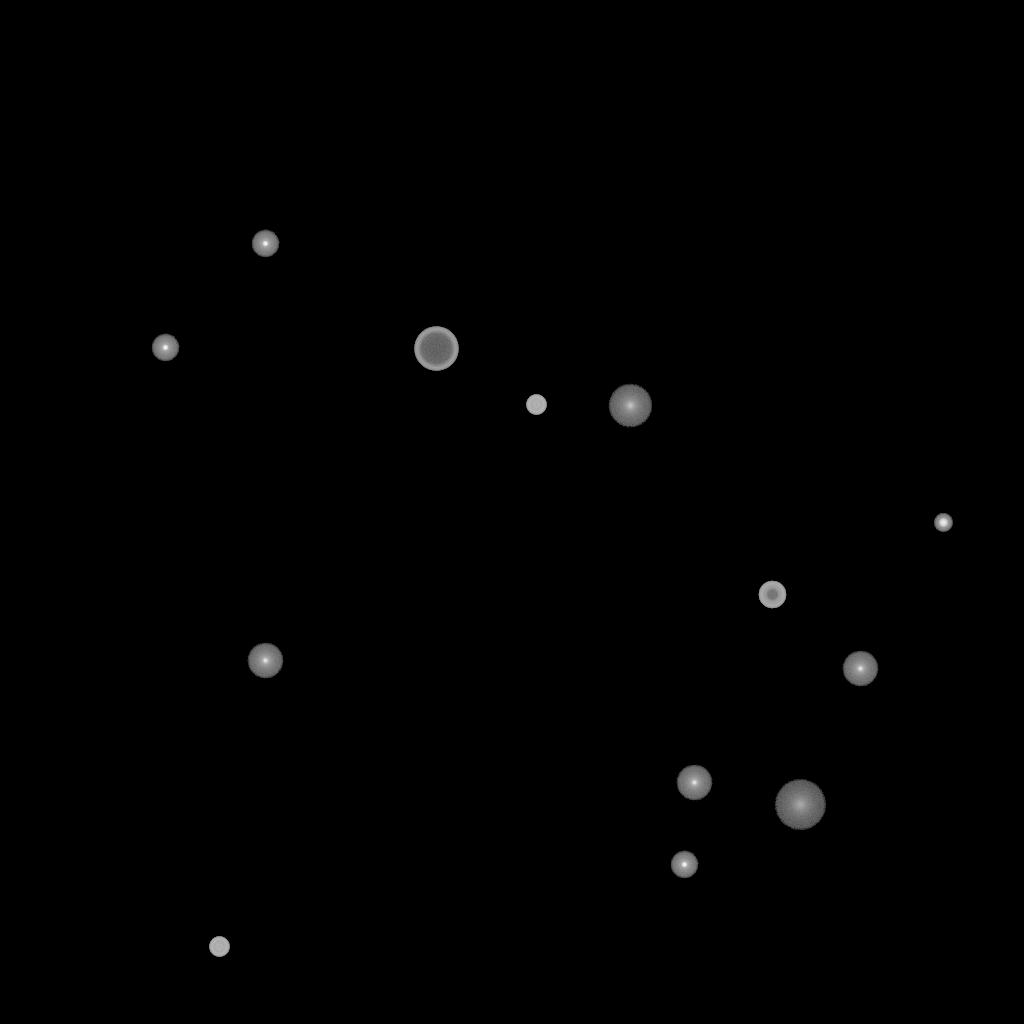depth:-10: (251, 230, 279, 258), (670, 851, 698, 879), (151, 334, 179, 362)
depth:-20: (934, 514, 952, 532)
depth:-40: (209, 937, 229, 957), (526, 395, 546, 415)
depth:-50: (758, 581, 786, 609)
depth:-70: (414, 327, 458, 371)
depth:0: (247, 643, 283, 679), (842, 651, 878, 687), (676, 765, 712, 801)
depth:10: (608, 384, 652, 428)
depth:20: (774, 780, 826, 830)
